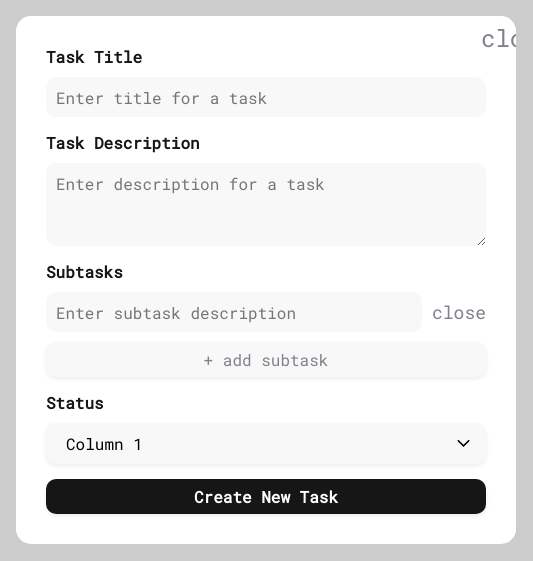
Test: Task Form Modal › deletes a subtask correctly
Click the icon with class "subtask__delete-button" at (459, 312), box [432, 303, 486, 321]
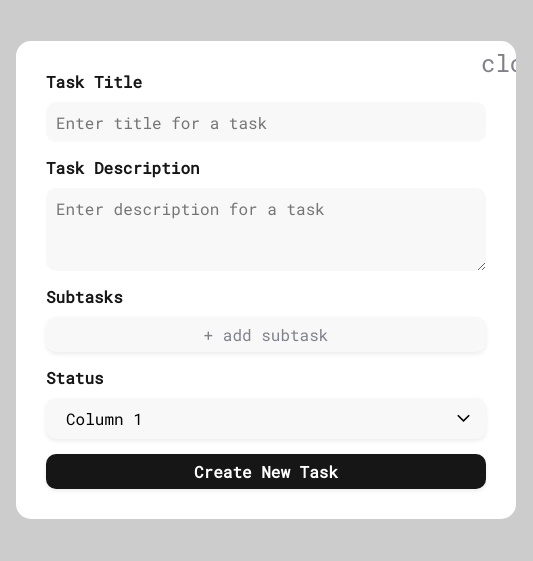
expect no elements with class "task-form__subtask" are shown: met
